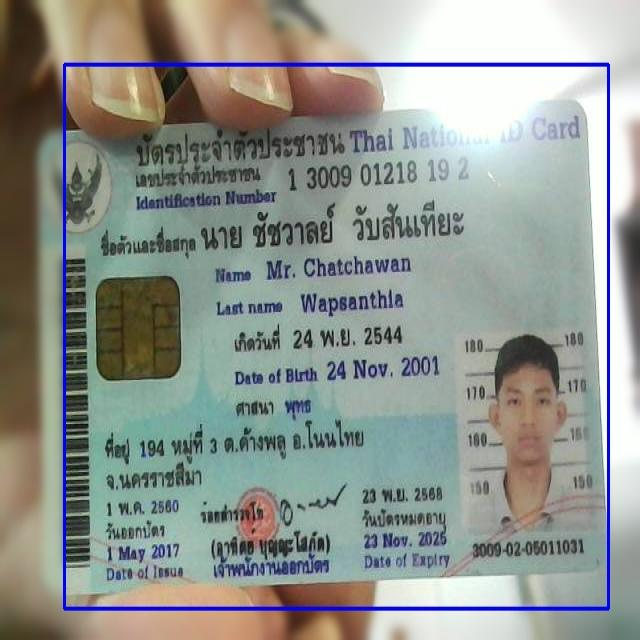Address_th: (92, 417, 374, 493)
Date_of_Birth: (324, 351, 442, 388)
Date_of_Expiry: (361, 526, 452, 554)
Date_of_Issue: (103, 539, 185, 565)
First_Name: (263, 250, 414, 284)
ID_Number: (284, 154, 473, 194)
Image: (461, 330, 595, 538)
Last_Name: (298, 285, 408, 321)
Thai_Name: (198, 197, 469, 255)
